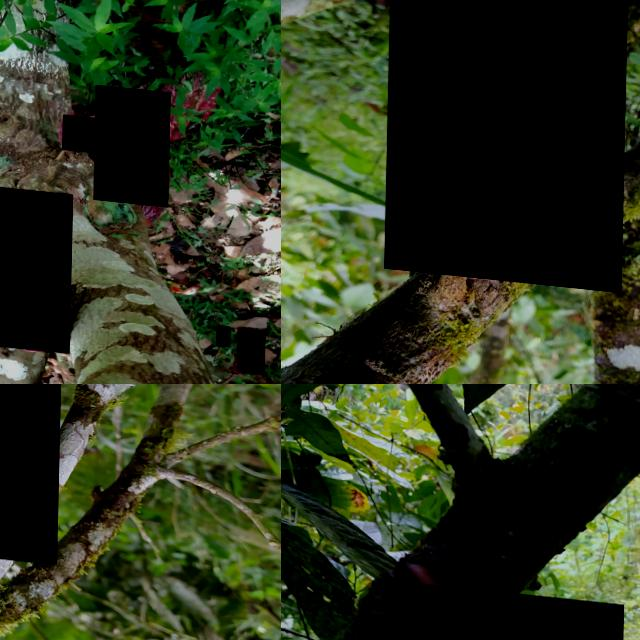Fitoftora: (386, 0, 629, 284), (0, 173, 74, 345)
Monilia: (379, 576, 625, 640)
Sana: (95, 76, 171, 197), (63, 107, 99, 145), (239, 317, 267, 363), (218, 315, 232, 336)
